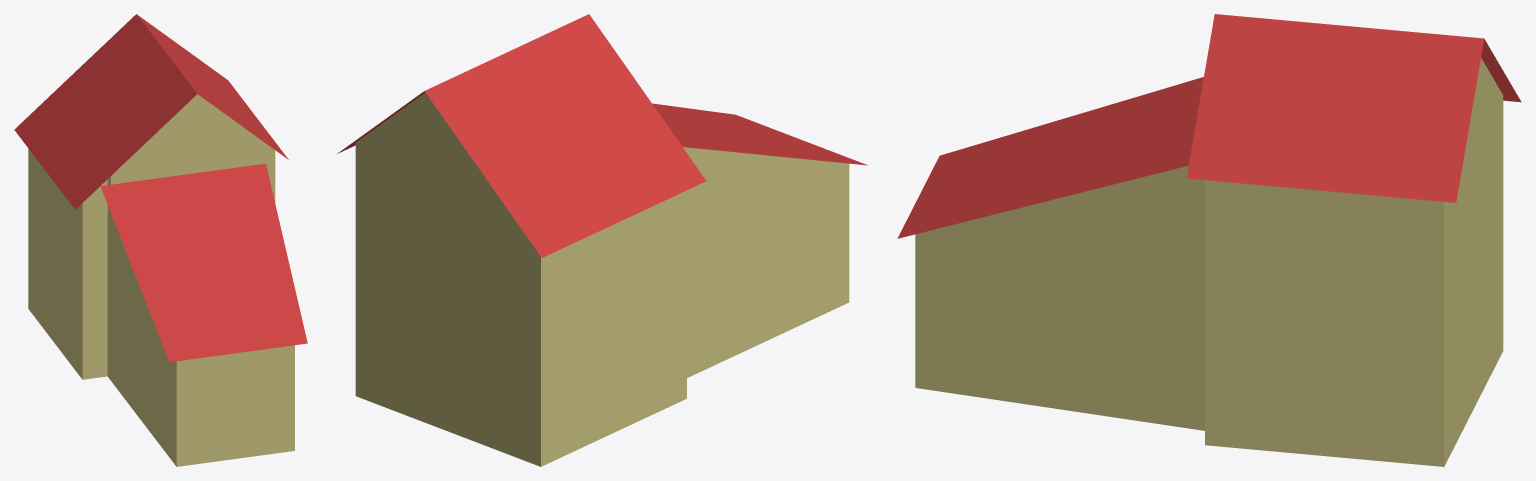
3 renders of one model, left to right at view 1: azimuth 30°, elevation 25°; view 2: azimuth 150°, elevation 25°; view 3: azimuth 270°, elevation 25°, orthographic. The views are drawn at different scales.
Bounding box in the file's own units: 12.6 × 20.06 × 13.51.
